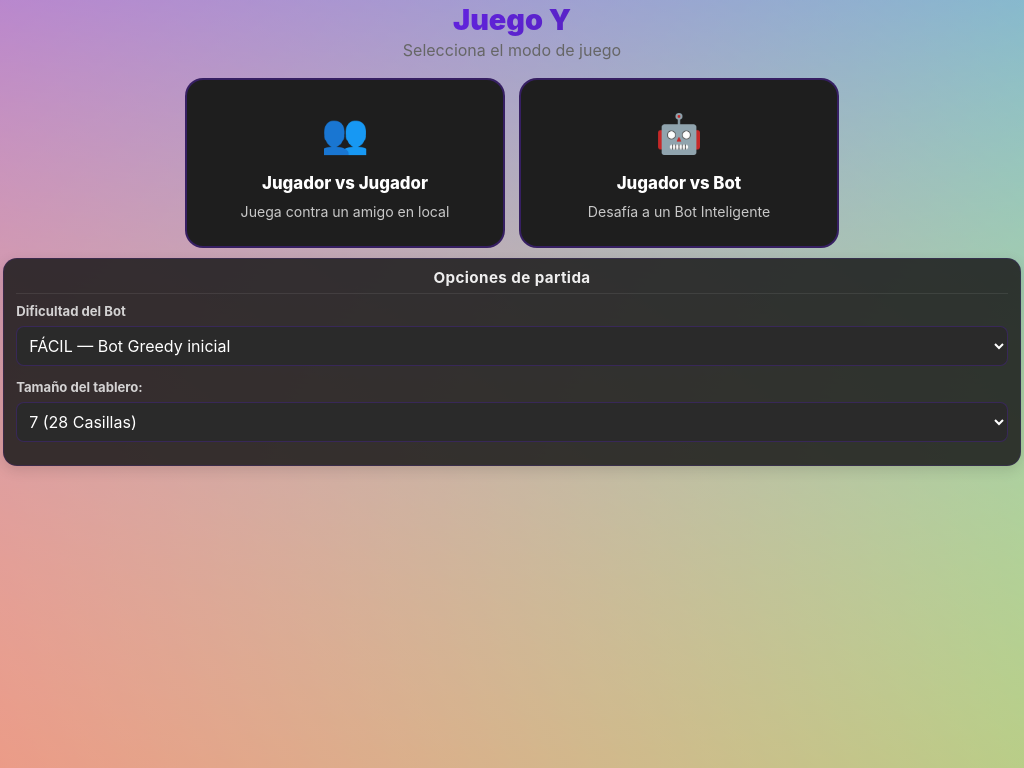
Test: GameBoard › detects a winner correctly
Click the button "🤖 Jugador vs Bot Desafía a un Bot Inteligente".
click(679, 133)  # box [519, 78, 839, 248]
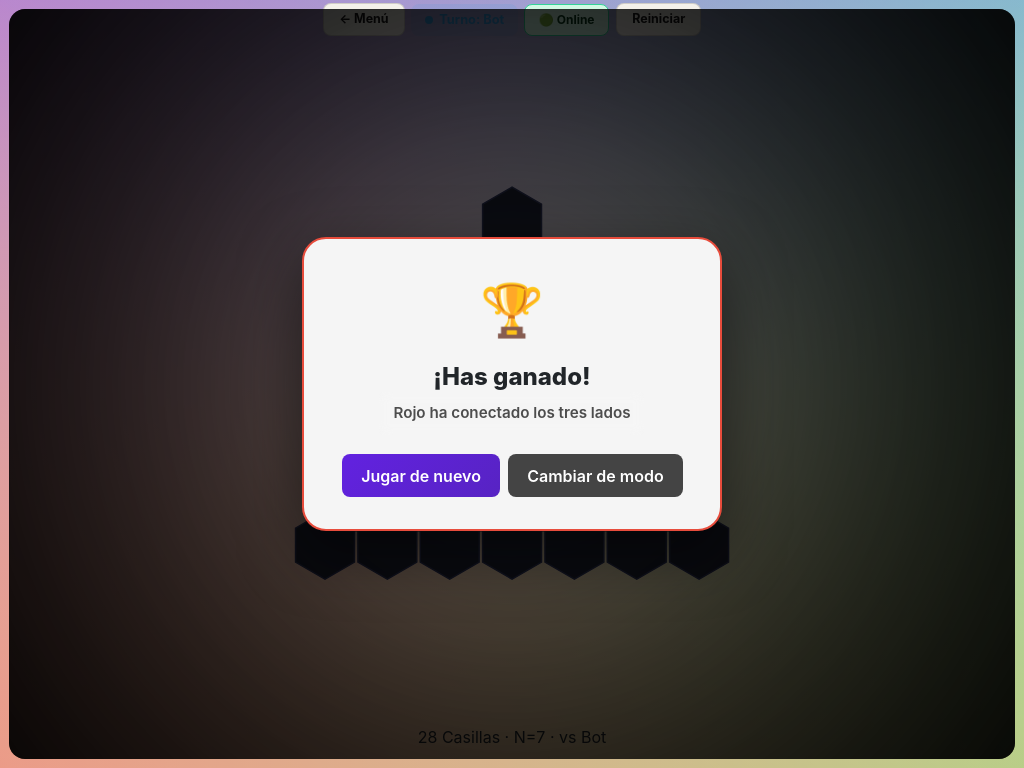
Check: the text "🟢 Online" is shown, box [524, 4, 609, 36]
Check: the heading "¡Has ganado!" is shown, box [433, 362, 591, 391]
